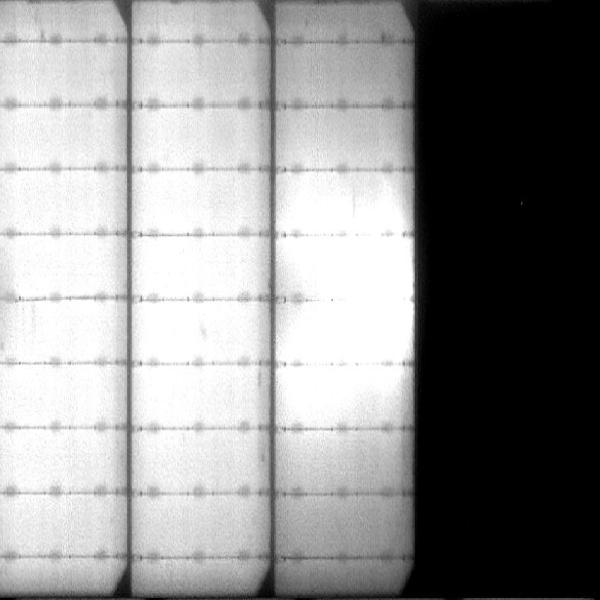hot_spot: (286, 239, 411, 301), (283, 305, 411, 357), (285, 373, 364, 408), (143, 310, 200, 357), (143, 371, 198, 419)
no_electricity: (416, 6, 599, 600)
